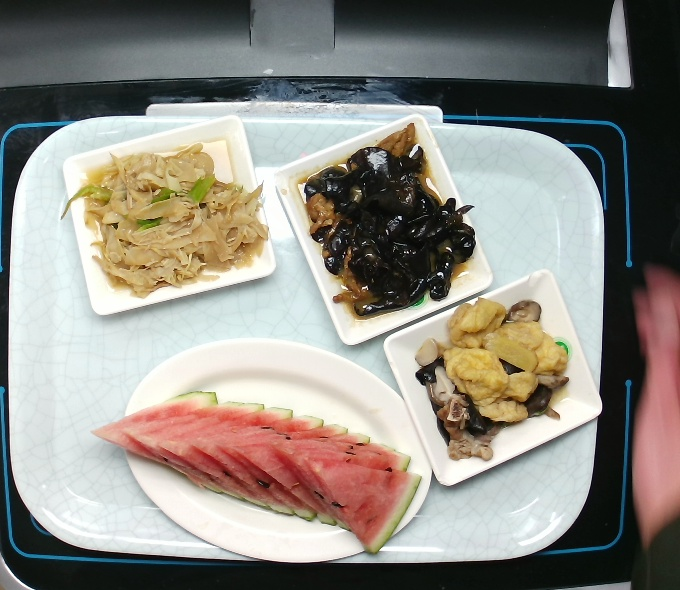wcq-LuSun: (58, 136, 275, 298)
wcq-MuErChaoRou: (295, 121, 486, 328)
wcq-XiGua: (89, 386, 426, 556)
wcq-YouPaoPaiGu: (412, 291, 581, 466)
